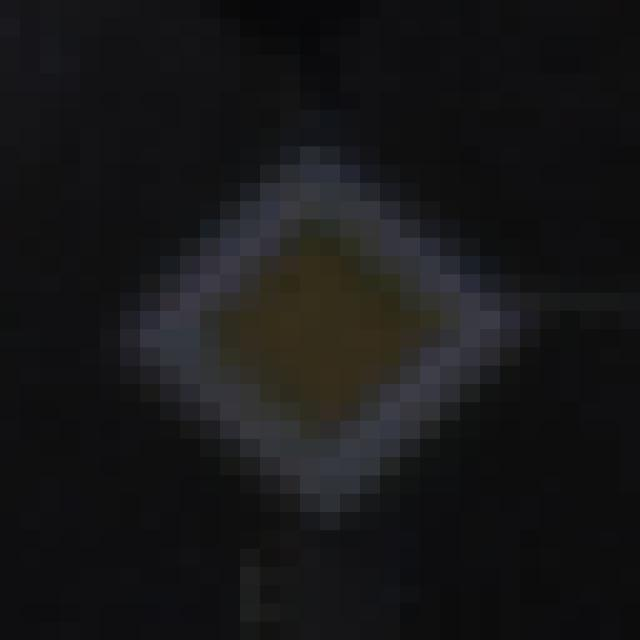Main Road: (101, 111, 541, 550)
